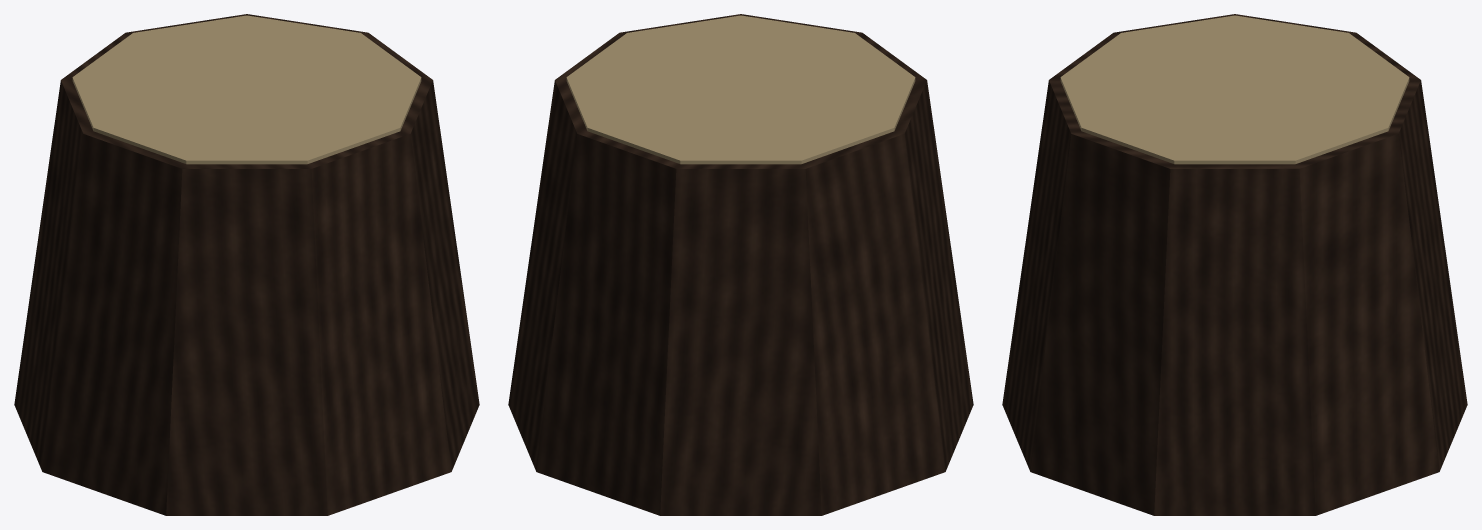
The model's file is Tree_Stump.glb.
3 views of the same model, side by side, from view 1: azimuth 30°, elevation 25°; view 2: azimuth 150°, elevation 25°; view 3: azimuth 270°, elevation 25° (orthographic).
Parts seen in each view (by area): view 1: Tree_Stump; view 2: Tree_Stump; view 3: Tree_Stump.
Boxes of the visible parts, left/top/right/bottom form: Tree_Stump: left=14, top=14, right=479, bottom=515; Tree_Stump: left=508, top=14, right=973, bottom=515; Tree_Stump: left=1002, top=14, right=1467, bottom=515.
Bounding box in the file's own units: 0.5819 × 0.465 × 0.5909.
2 materials, 1 textured.
